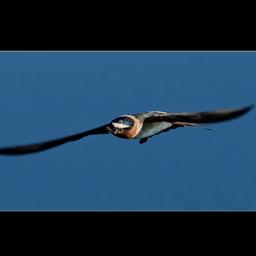Swallow: (0, 100, 253, 155)
